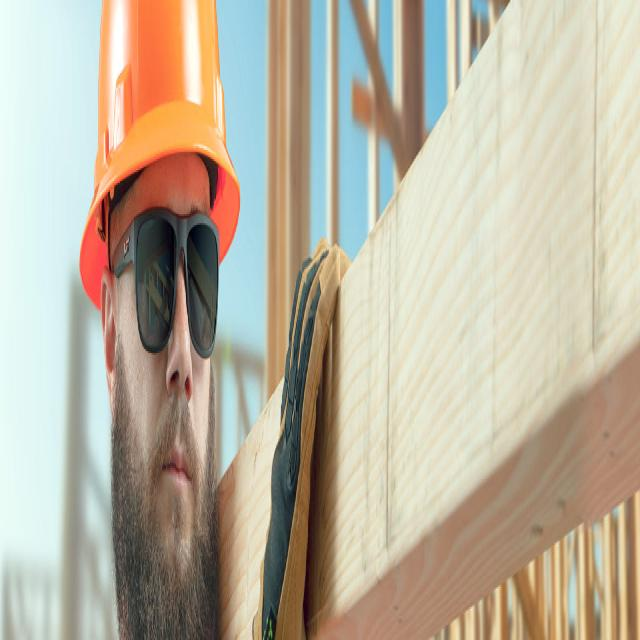goggles: (106, 196, 224, 389)
helmet: (77, 0, 244, 319)
